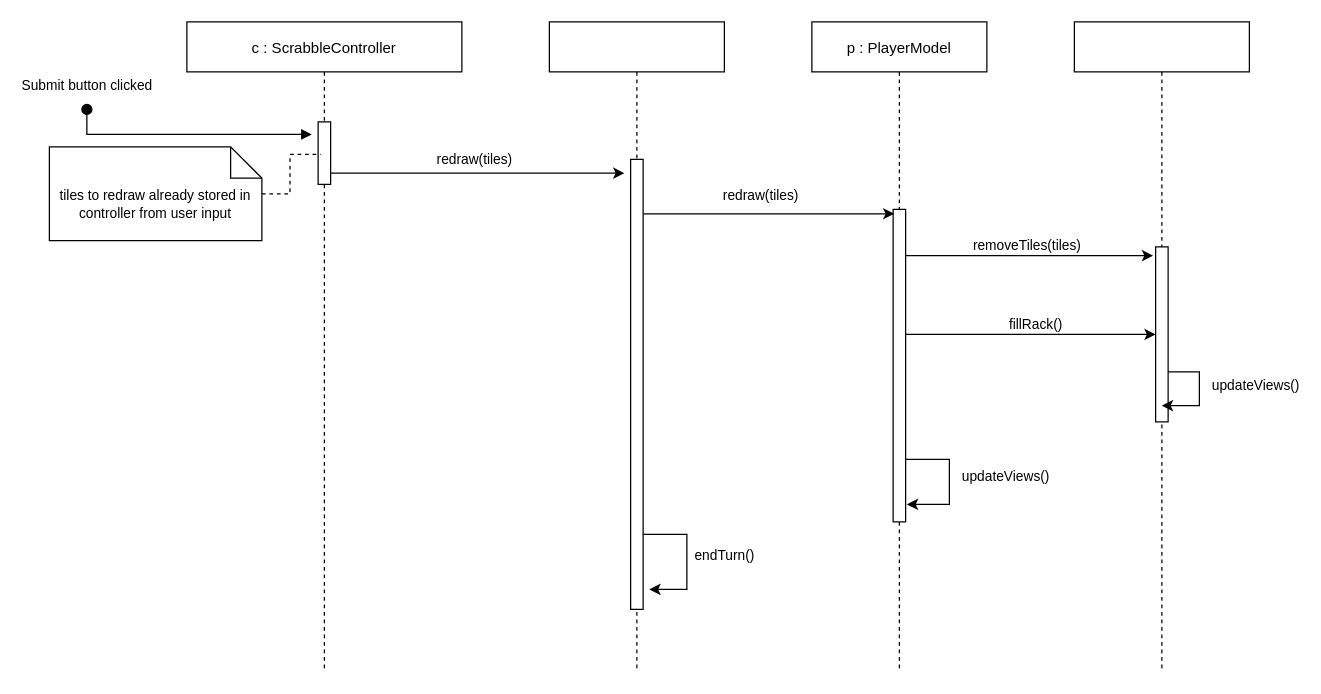
Image size: 1321x694. Some labels were removed from this diagram. The shapes that lost their labels are listed below. From the top down, each one's box as (x1, y1, x2, y2) in pixels, then its label:
(548, 21, 724, 672): g : ScrabbleGameModel
(1073, 21, 1249, 672): r : RackModel
